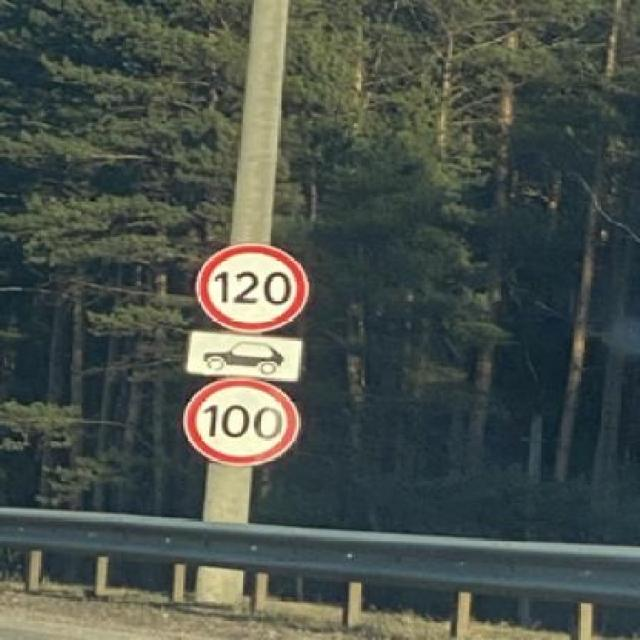forb_speed_over_100: (189, 378, 297, 470)
forb_speed_over_120: (196, 241, 307, 334)
